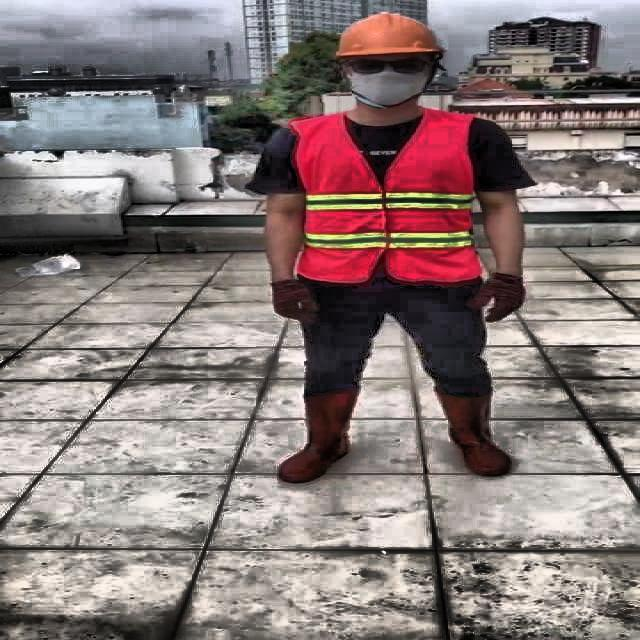safety_jacket: (292, 111, 486, 282)
